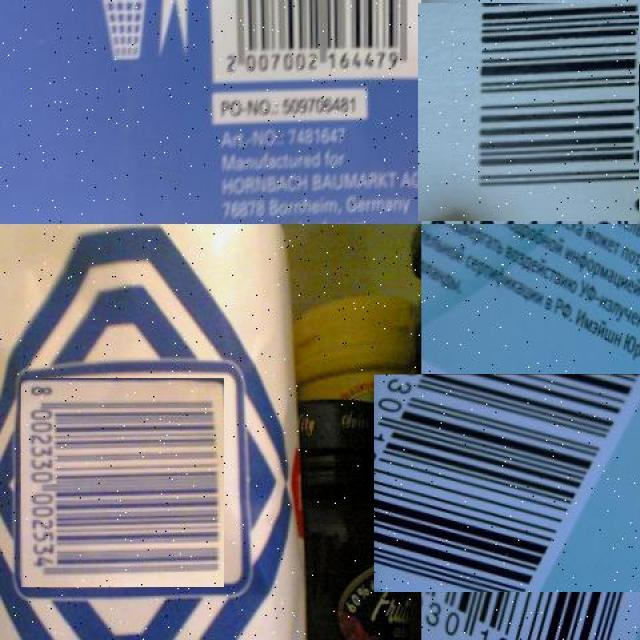Barcode: (397, 350, 640, 616), (419, 1, 640, 222), (19, 379, 226, 586), (203, 0, 421, 81)
